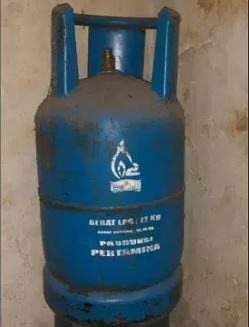blue_gas: (34, 5, 185, 322)
